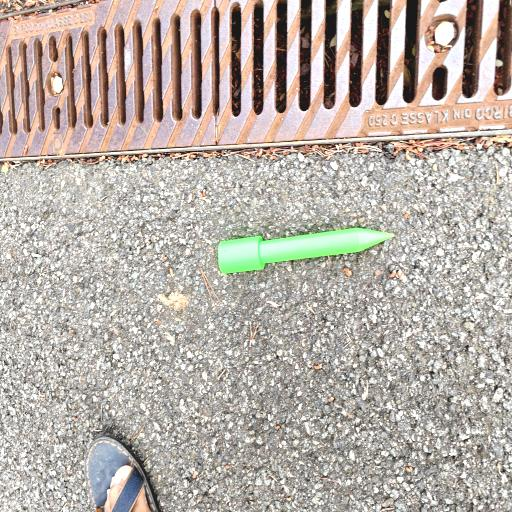Probe-Detection: (218, 228, 394, 274)
